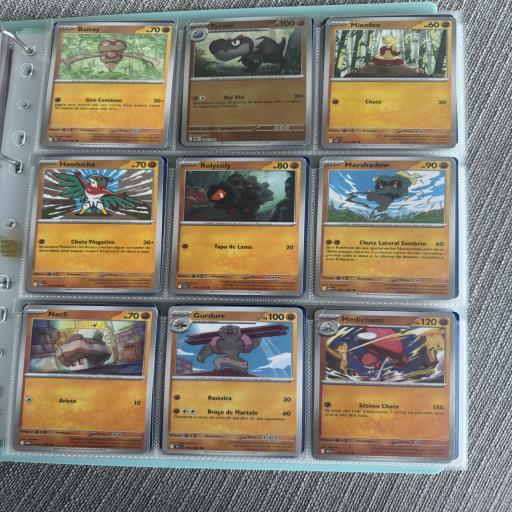card: (12, 303, 158, 454), (312, 309, 457, 461), (162, 304, 305, 457), (313, 153, 459, 300), (169, 155, 306, 296), (26, 156, 163, 292), (321, 16, 457, 149), (41, 19, 178, 150), (180, 15, 313, 146)
